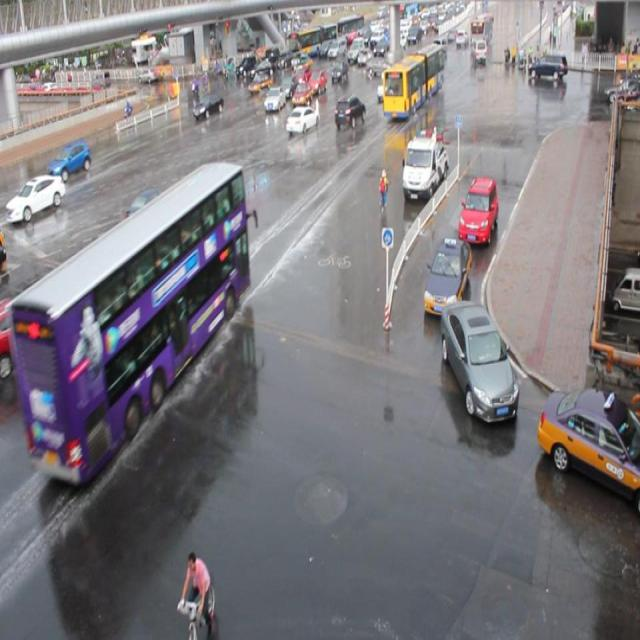bus: (402, 130, 448, 199)
car: (536, 386, 640, 510), (440, 298, 518, 423), (124, 188, 190, 254), (422, 236, 470, 314), (0, 291, 40, 373), (1, 172, 66, 221), (457, 176, 498, 244), (48, 141, 91, 180), (334, 95, 366, 128), (286, 106, 320, 135), (193, 91, 224, 120), (292, 80, 313, 108), (264, 86, 286, 112), (248, 72, 272, 95), (279, 74, 300, 100), (307, 68, 327, 93), (376, 78, 397, 100)
van: (12, 159, 250, 482), (382, 45, 444, 119)
